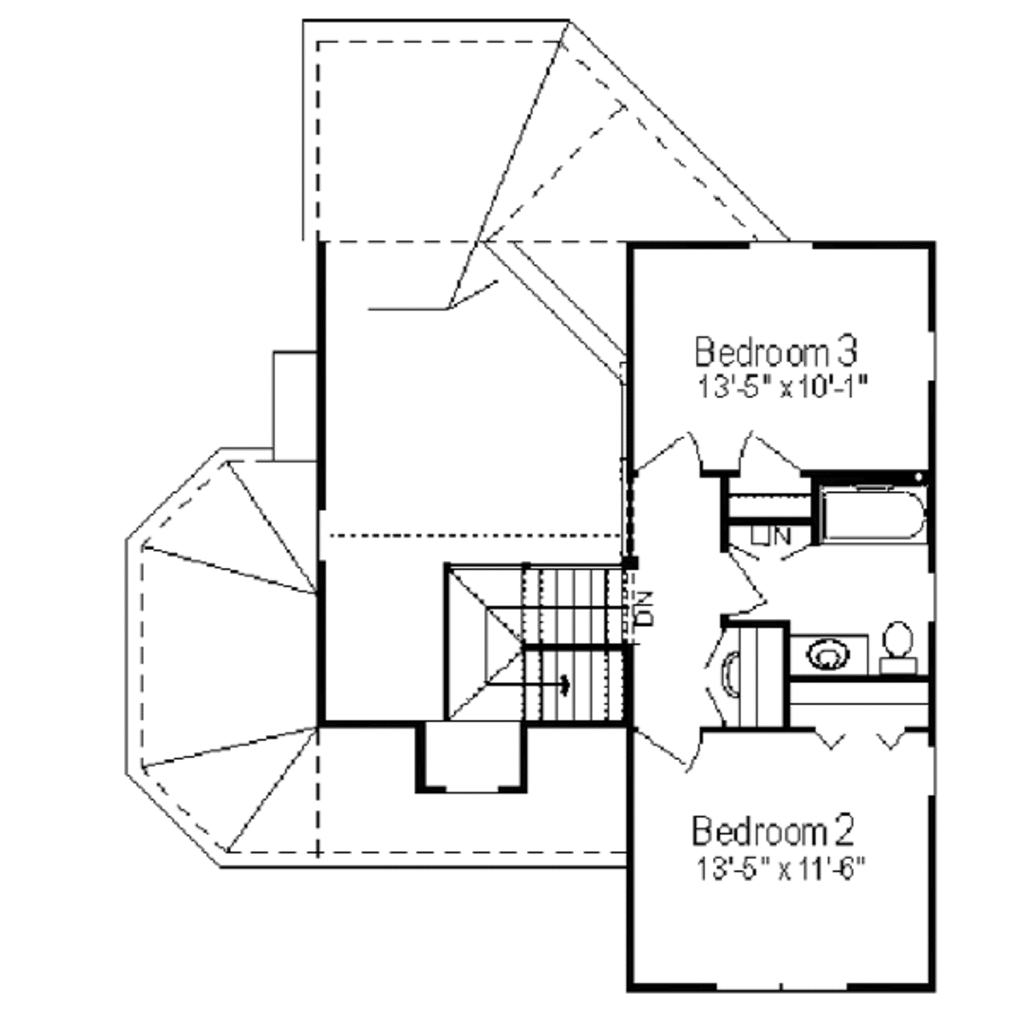door: (721, 544, 772, 618), (633, 432, 710, 481), (633, 721, 702, 772), (733, 429, 800, 473)
large_sink: (867, 613, 923, 680)
small_sink: (786, 631, 872, 676)
stairs: (443, 557, 625, 728)
tub: (821, 479, 928, 550)
windows: (708, 975, 855, 997), (741, 233, 822, 255), (922, 324, 943, 394)
